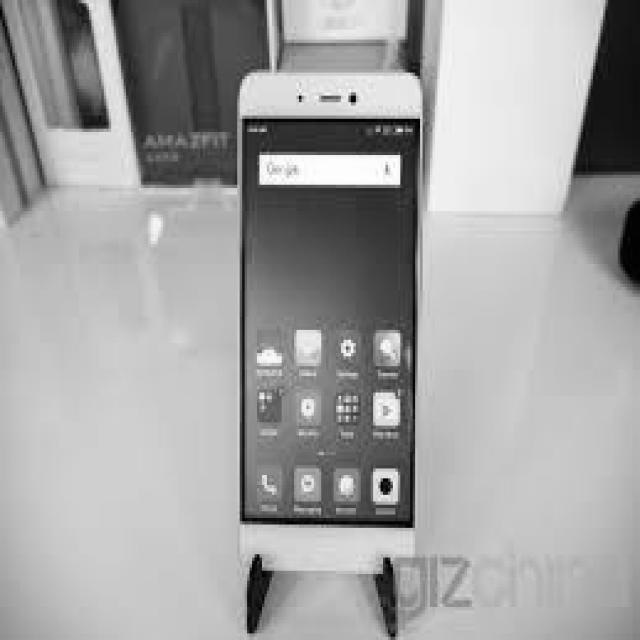No gun_phone: (240, 72, 423, 576)
